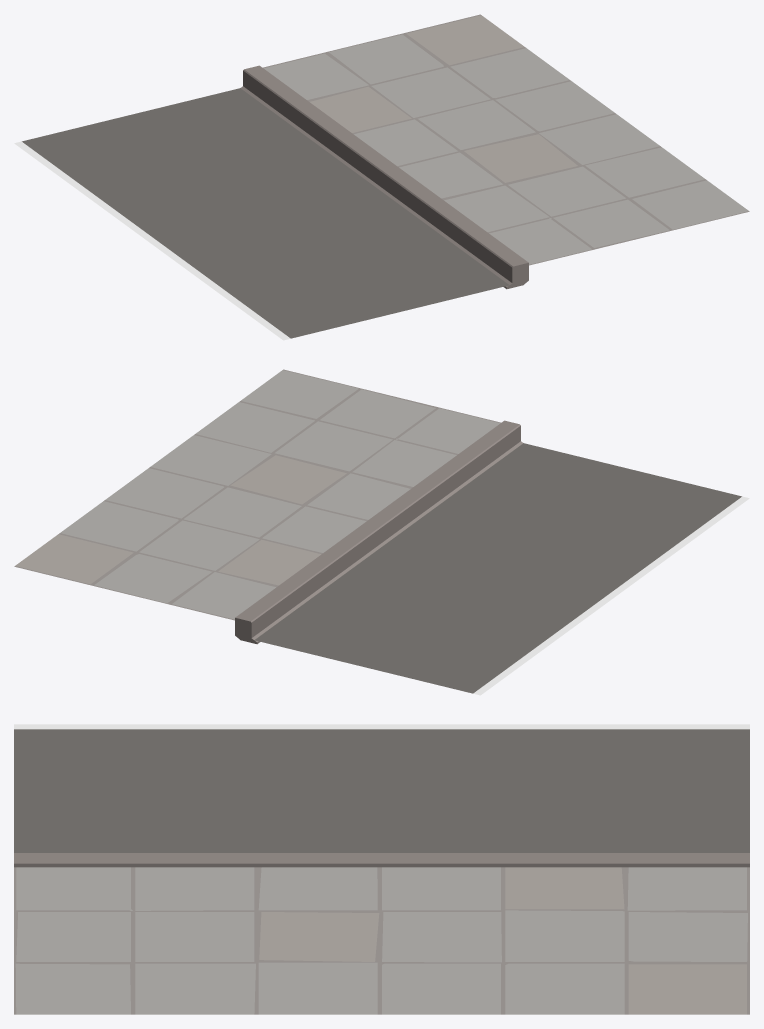
File: Road_04.fbx
3 renders of one model, top to bottom at view 1: azimuth 30°, elevation 25°; view 2: azimuth 150°, elevation 25°; view 3: azimuth 270°, elevation 25°, orthographic. The views are drawn at different scales.
Visible parts, largest first — view 1: Road_04; view 2: Road_04; view 3: Road_04.
Boxes of the visible parts, bbox=[...] form: Road_04: bbox=[14, 14, 749, 340]; Road_04: bbox=[14, 369, 749, 695]; Road_04: bbox=[14, 724, 749, 1014].
Size of the model in its own units: 12 by 0.5208 by 12.
